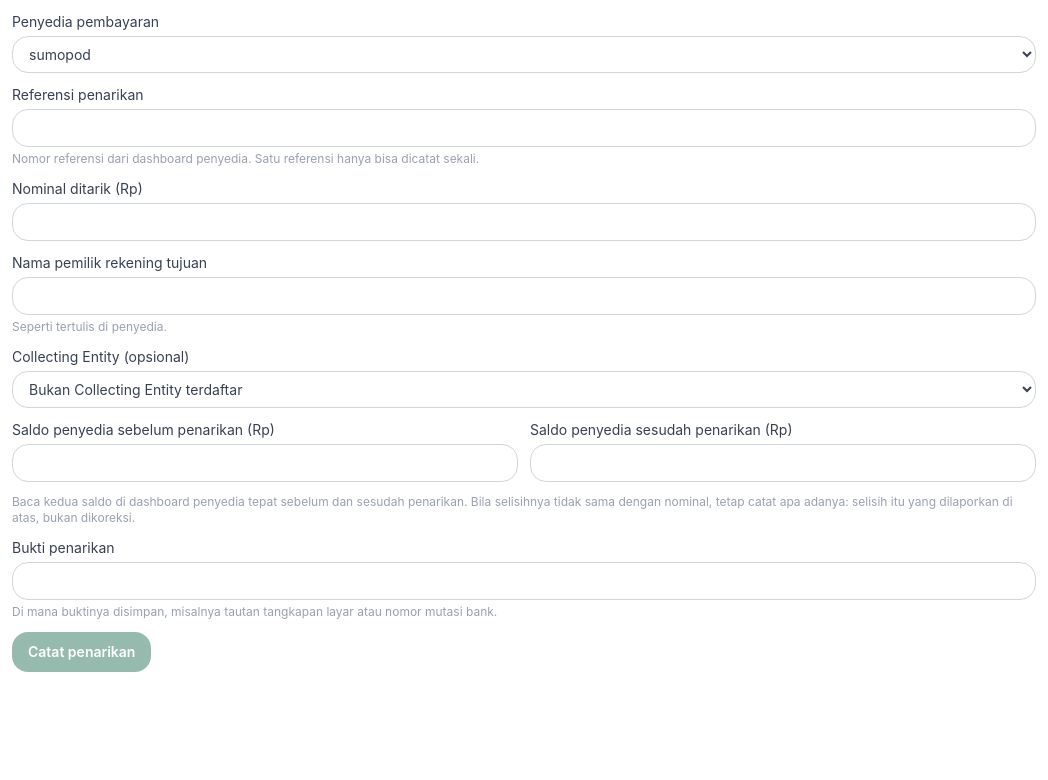
Scenario: AdminProviderWithdrawalForm › shows the server's refusal in its own words and does not refresh
Type " WD-001 " into the field labelled "Referensi penarikan".
click(524, 128); type(" WD-001 ")  # box [12, 109, 1036, 147]
Type "1.000.000" into the field labelled "Nominal ditarik (Rp)".
click(524, 222); type("1.000.000")  # box [12, 203, 1036, 241]
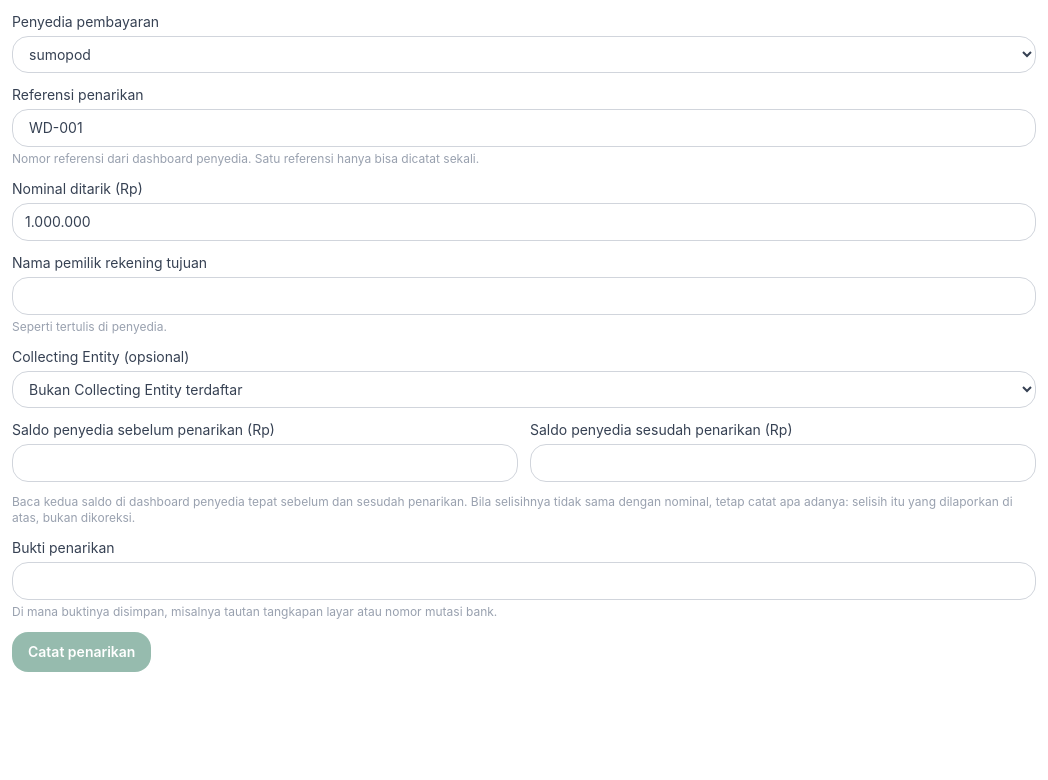
Type "YAY GENERASI JAYA INDO" into the field labelled "Nama pemilik rekening tujuan Seperti tertulis di penyedia.".
click(524, 296); type("YAY GENERASI JAYA INDO")  # box [12, 277, 1036, 315]
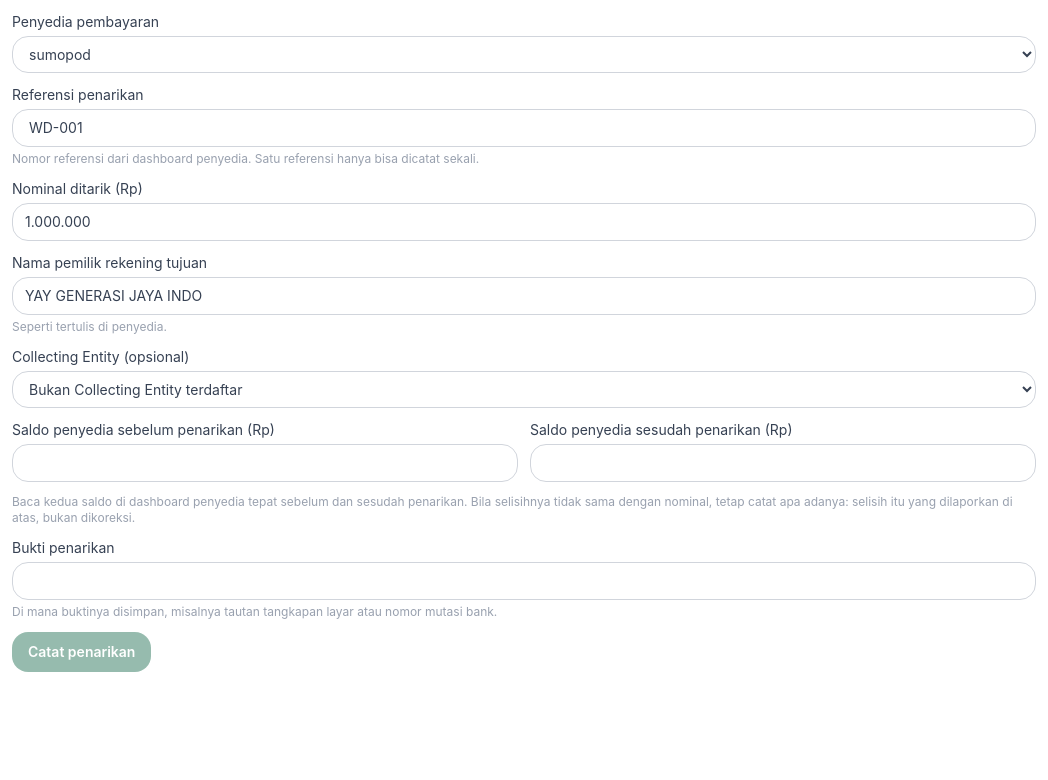
Type "1500000" into the field labelled "Saldo penyedia sebelum penarikan (Rp)".
click(265, 463); type("1500000")  # box [12, 444, 518, 482]
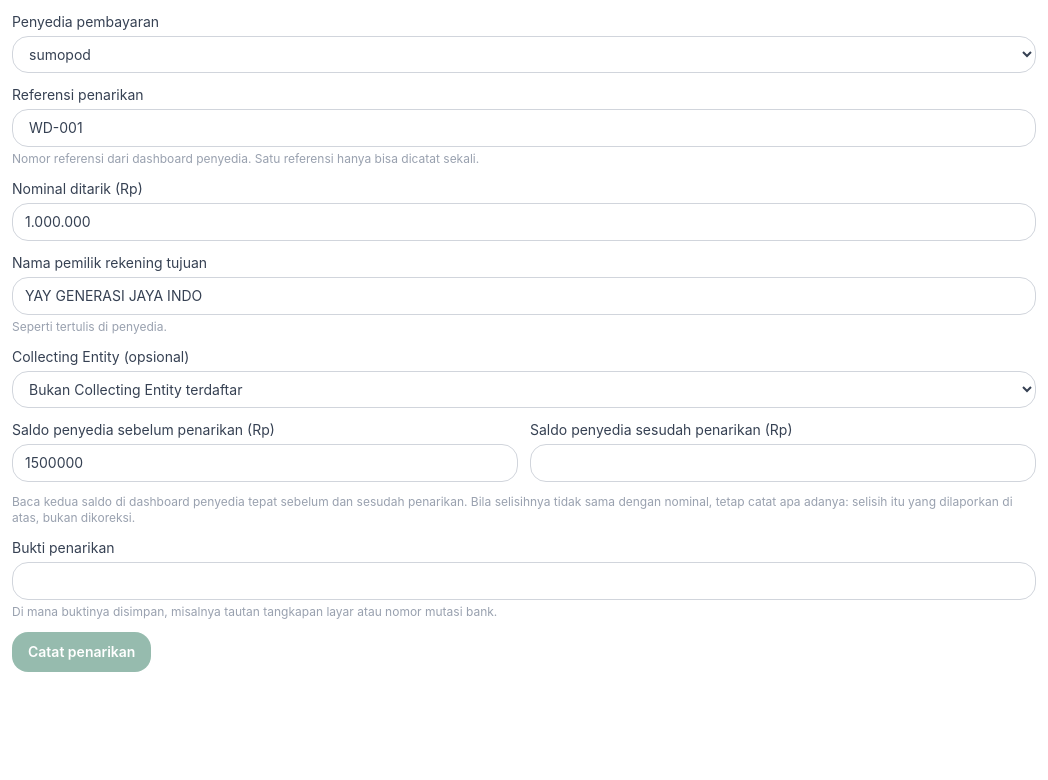
Type "500000" into the field labelled "Saldo penyedia sesudah penarikan (Rp)".
click(783, 463); type("500000")  # box [530, 444, 1036, 482]
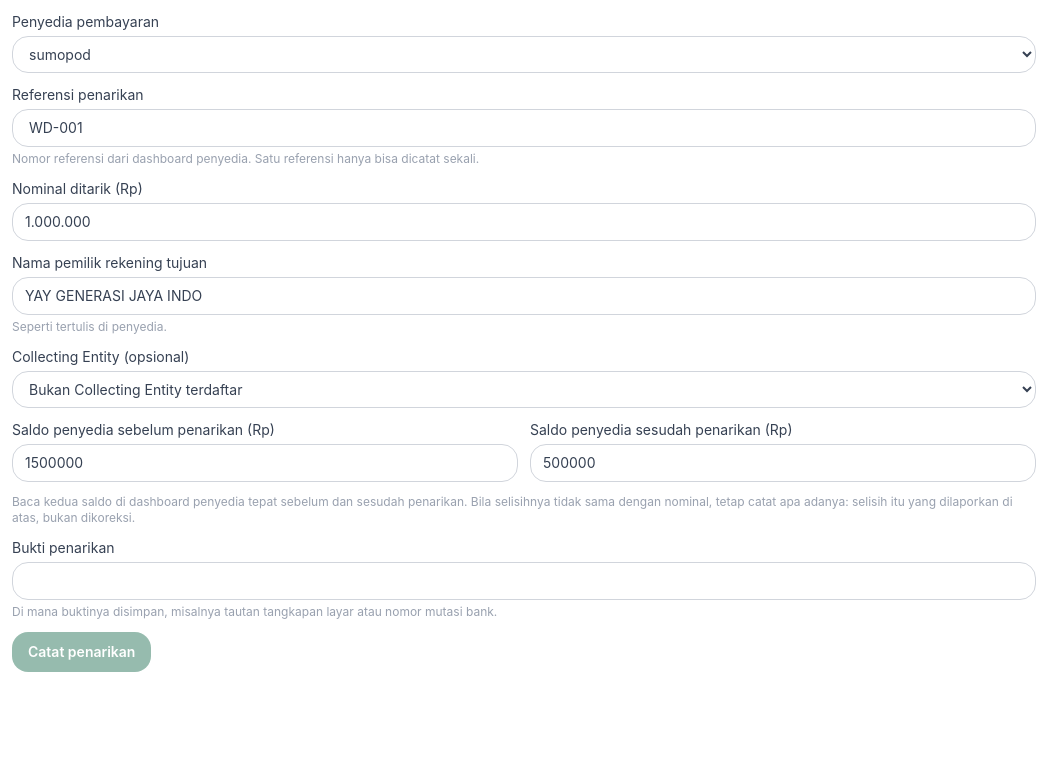
Type "Tangkapan layar dashboard 29/10" into the field labelled "Bukti penarikan".
click(524, 581); type("Tangkapan layar dashboard 29/10")  # box [12, 562, 1036, 600]
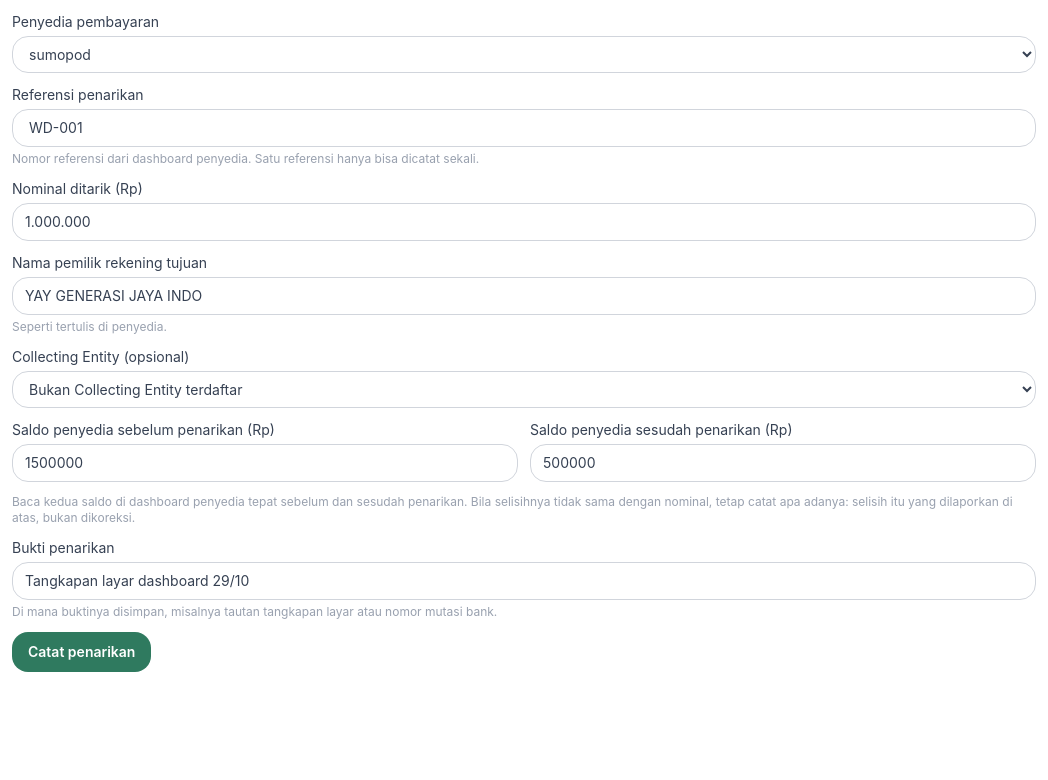
Click the button "Catat penarikan".
click(82, 652)  # box [12, 632, 151, 672]
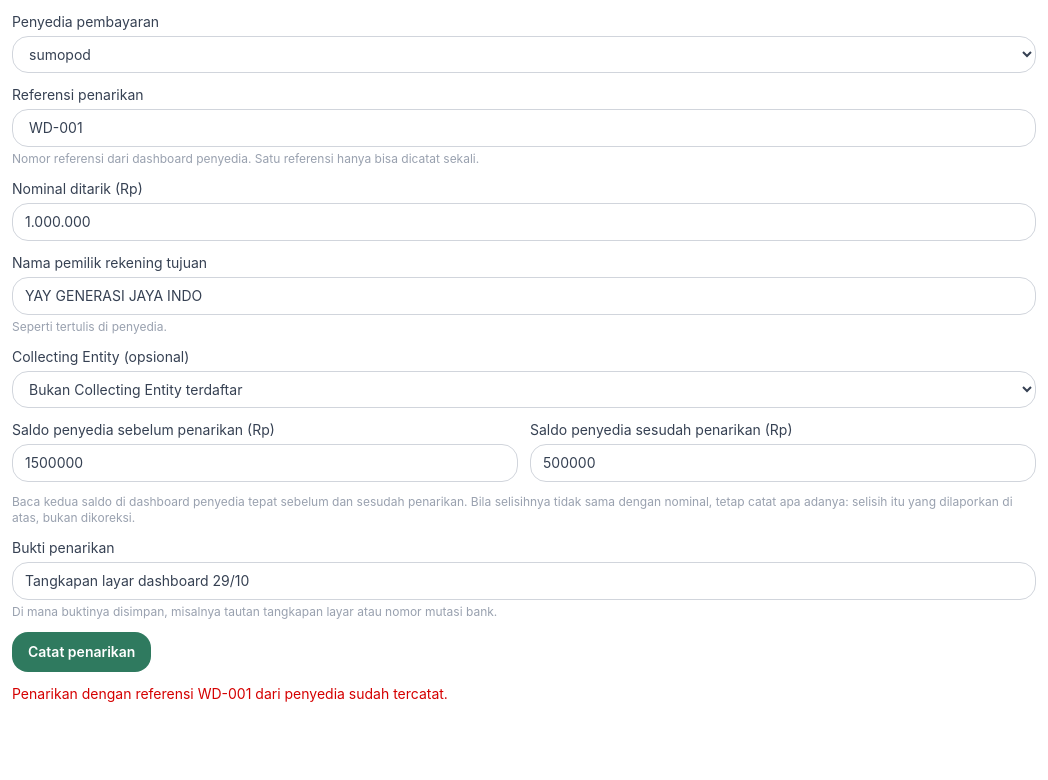
Result: the message reads "Penarikan dengan referensi WD-001 dari penyedia sudah tercatat." at [12, 685, 448, 702]
